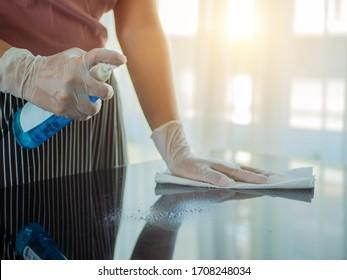gloves: (1, 47, 127, 121), (150, 121, 284, 187)
